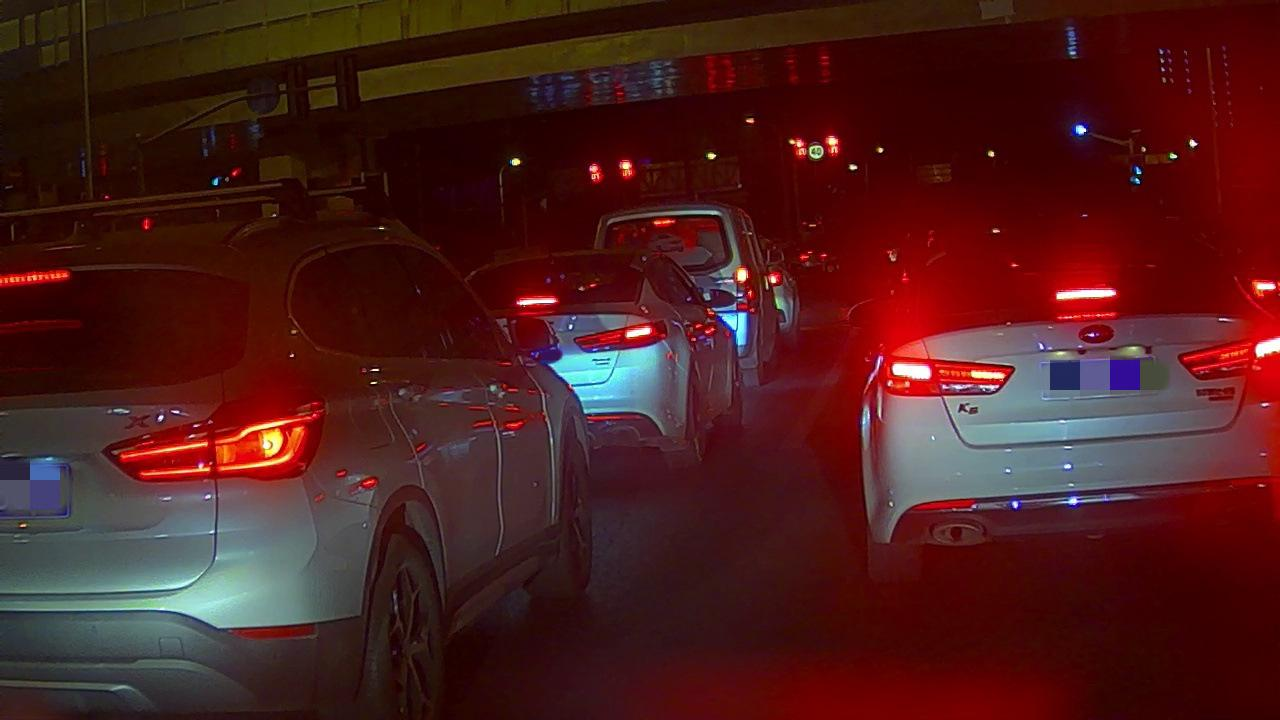traffic_light: (616, 158, 636, 182), (824, 131, 841, 159), (586, 162, 604, 185), (792, 137, 808, 161)
